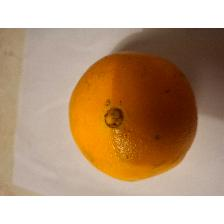Orange: (63, 48, 203, 182)
